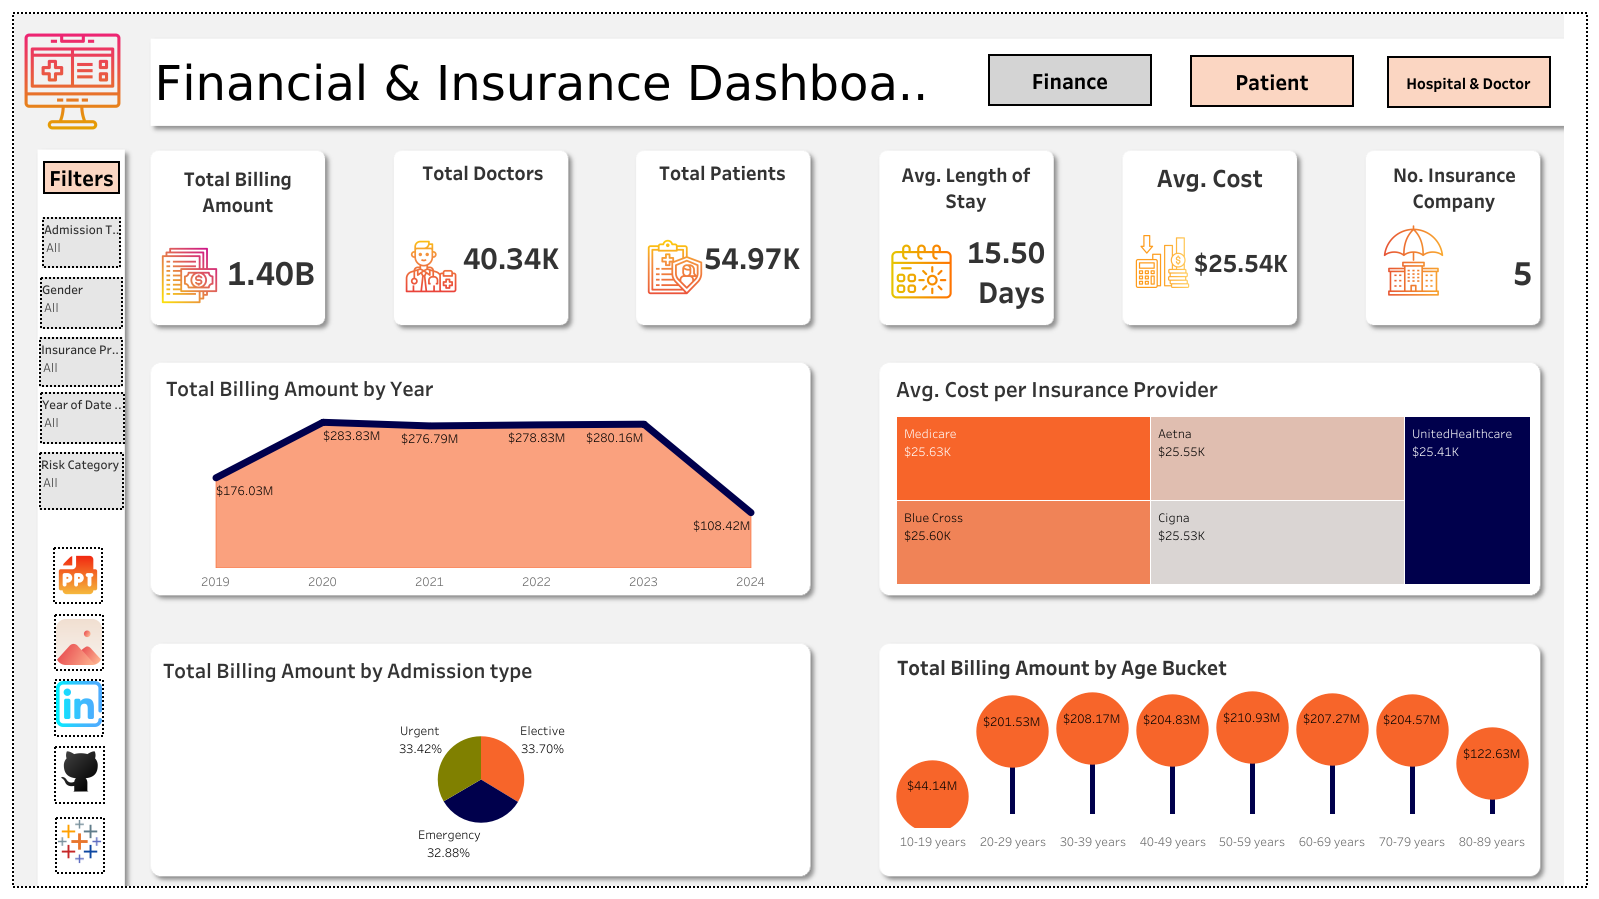

The dashboard page shown, as its layout file describes it:
{"tool":"tableau","page":{"name":"Finance Dashboard","canvas":[1600,900],"ordinal":0},"visuals":[{"type":"image","param":"Image/Presentation_HEALTHCARE.jpg","box":[8,8,1584,884]},{"type":"image","param":"Image/online-appointment_7265730.png","box":[23,32,119,99]},{"type":"text","box":[135,33,782,96]},{"type":"dashboard-object","box":[863,38,201,78]},{"type":"dashboard-object","box":[1093,38,216,78]},{"type":"dashboard-object","box":[1337,38,216,78]},{"type":"worksheet","title":"No. Insurance Company","mark":"Automatic","box":[1372,155,165,167]},{"type":"worksheet","title":"Total Billing Amount","mark":"Automatic","box":[280,156,164,152]},{"type":"worksheet","title":"Total Doctors","mark":"Automatic","box":[502,157,167,169]},{"type":"worksheet","title":"Avg. Cost","mark":"Automatic","box":[1164,157,164,167]},{"type":"worksheet","title":"Total Patients","mark":"Automatic","box":[719,158,171,170]},{"type":"worksheet","title":"Avg. Length of Stay","mark":"Automatic","box":[939,159,167,166]},{"type":"text","box":[49,166,178,55]},{"type":"image","param":"Image/insurance-company_11184030.png","box":[1376,223,81,75]},{"type":"image","param":"Image/doctor_3671120.png","box":[498,228,55,85]},{"type":"image","param":"Image/clipboard_3576805.png","box":[719,232,58,82]},{"type":"image","param":"Image/calendar_16964228.png","box":[941,232,69,93]},{"type":"image","param":"Image/budget_14431365.png","box":[1160,234,57,72]},{"type":"image","param":"Image/money_3379417.png","box":[280,244,59,82]},{"type":"filter","title":"Total Billing Amount by Year","param":"[federated.1or61521bt9pdb13ihx3r1wnd5m3].[none:Admission_Type:nk]","box":[53,257,175,47]},{"type":"filter","title":"Total Billing Amount by Year","param":"[federated.1or61521bt9pdb13ihx3r1wnd5m3].[none:Gender:nk]","box":[54,341,172,52]},{"type":"worksheet","title":"Total Billing Amount by Year","mark":"Area","rows":["Billing_Amount","Billing_Amount"],"cols":["Discharge_Date"],"box":[275,380,612,214]},{"type":"worksheet","title":"Avg. Cost per Insurance Provider","mark":"Automatic","box":[941,380,611,212]},{"type":"filter","title":"Total Billing Amount by Year","param":"[federated.1or61521bt9pdb13ihx3r1wnd5m3].[none:Insurance_Provider:nk]","box":[52,432,176,50]},{"type":"filter","title":"Total Billing Amount by Year","param":"[federated.1or61521bt9pdb13ihx3r1wnd5m3].[yr:Date_of_Admission:ok]","box":[54,520,173,52]},{"type":"filter","title":"Total Billing Amount by Year","param":"[federated.1or61521bt9pdb13ihx3r1wnd5m3].[none:Risk_Category:nk]","box":[52,606,172,59]},{"type":"worksheet","title":"Total Billing Amount by Age Bucket","mark":"Automatic","rows":["Billing_Amount","Billing_Amount"],"cols":["Age_Bucket"],"box":[939,639,616,219]},{"type":"worksheet","title":"Total Billing Amount by Admission type","mark":"Pie","box":[276,645,611,205]},{"type":"dashboard-object","box":[174,733,50,57]},{"type":"image","param":"Image/download.png","box":[68,736,50,57]},{"type":"image","param":"Image/linkedin_1384171.png","box":[65,802,50,58]},{"type":"image","param":"Image/github_4926625.png","box":[175,806,51,58]}]}

Visuals, with their boxes in screenshot pixels (x1, y1, x2, y2), scaled from the page's 1600x900 canvas onto the 1599x899 screenshot:
image: 8/8/1591/891
image: 23/32/142/131
text: 135/33/916/129
dashboard-object: 862/38/1063/116
dashboard-object: 1092/38/1308/116
dashboard-object: 1336/38/1552/116
"No. Insurance Company" worksheet: 1371/155/1536/322
"Total Billing Amount" worksheet: 280/156/444/308
"Total Doctors" worksheet: 502/157/669/326
"Avg. Cost" worksheet: 1163/157/1327/324
"Total Patients" worksheet: 719/158/889/328
"Avg. Length of Stay" worksheet: 938/159/1105/325
text: 49/166/227/221
image: 1375/223/1456/298
image: 498/228/553/313
image: 719/232/777/314
image: 940/232/1009/325
image: 1159/234/1216/306
image: 280/244/339/326
"Total Billing Amount by Year" filter: 53/257/228/304
"Total Billing Amount by Year" filter: 54/341/226/393
"Total Billing Amount by Year" worksheet (Area marks): 275/380/886/593
"Avg. Cost per Insurance Provider" worksheet: 940/380/1551/591
"Total Billing Amount by Year" filter: 52/432/228/481
"Total Billing Amount by Year" filter: 54/519/227/571
"Total Billing Amount by Year" filter: 52/605/224/664
"Total Billing Amount by Age Bucket" worksheet: 938/638/1554/857
"Total Billing Amount by Admission type" worksheet (Pie marks): 276/644/886/849
dashboard-object: 174/732/224/789
image: 68/735/118/792
image: 65/801/115/859
image: 175/805/226/863
